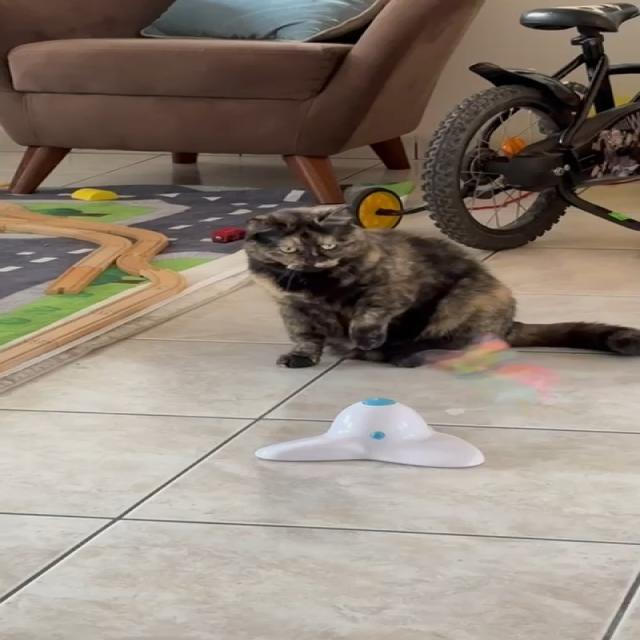authorized: (241, 203, 639, 369)
